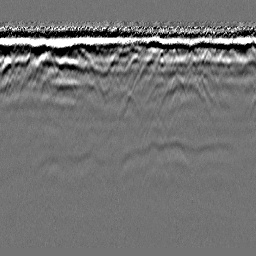cavity: (117, 90, 140, 121)
